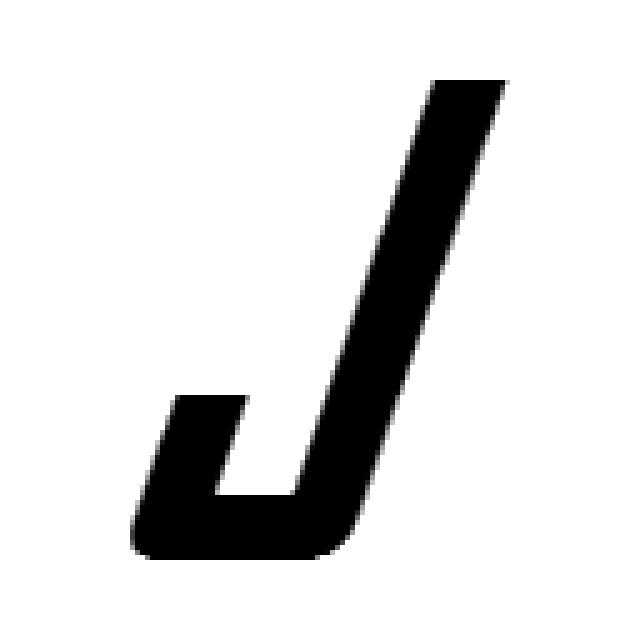J: (120, 70, 510, 565)
